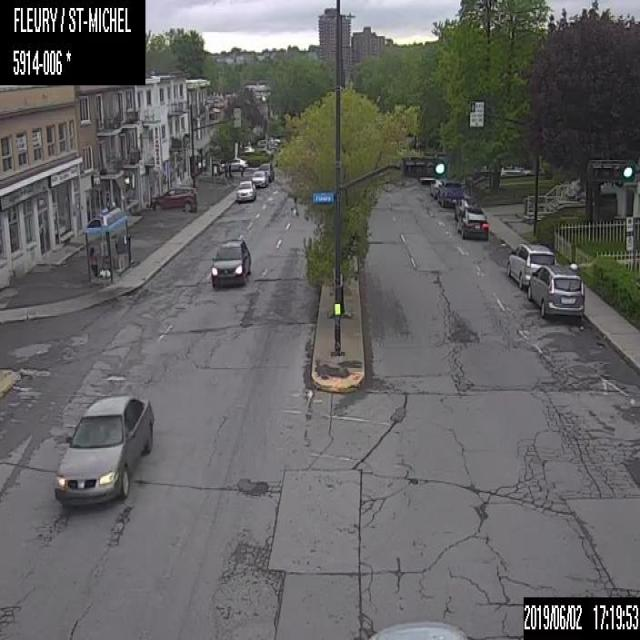vehicle: (52, 394, 154, 508), (526, 263, 585, 318), (505, 242, 556, 289), (366, 617, 470, 639), (210, 235, 250, 288), (151, 185, 197, 212), (456, 205, 488, 240), (436, 179, 468, 207), (454, 196, 480, 219), (235, 179, 256, 203), (220, 157, 248, 170), (429, 178, 445, 199), (250, 169, 268, 186), (258, 162, 274, 180), (239, 145, 254, 156)
